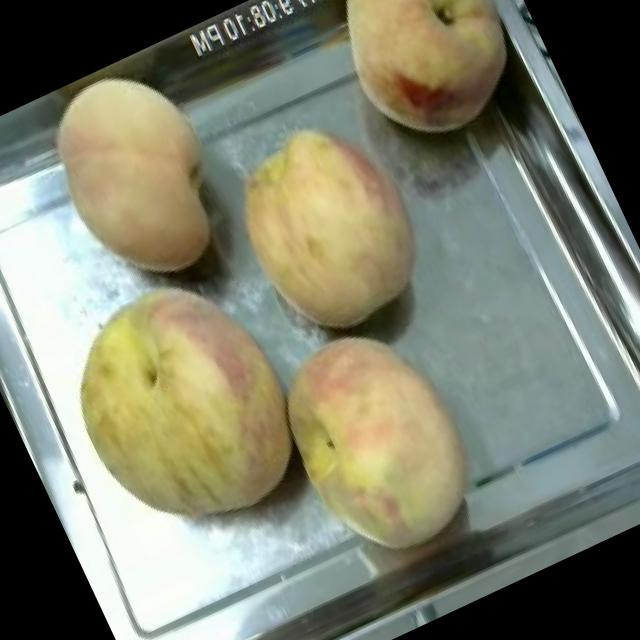Fruit: (27, 244, 334, 570), (248, 298, 506, 584), (202, 92, 454, 360), (18, 43, 256, 311), (310, 0, 556, 171)
